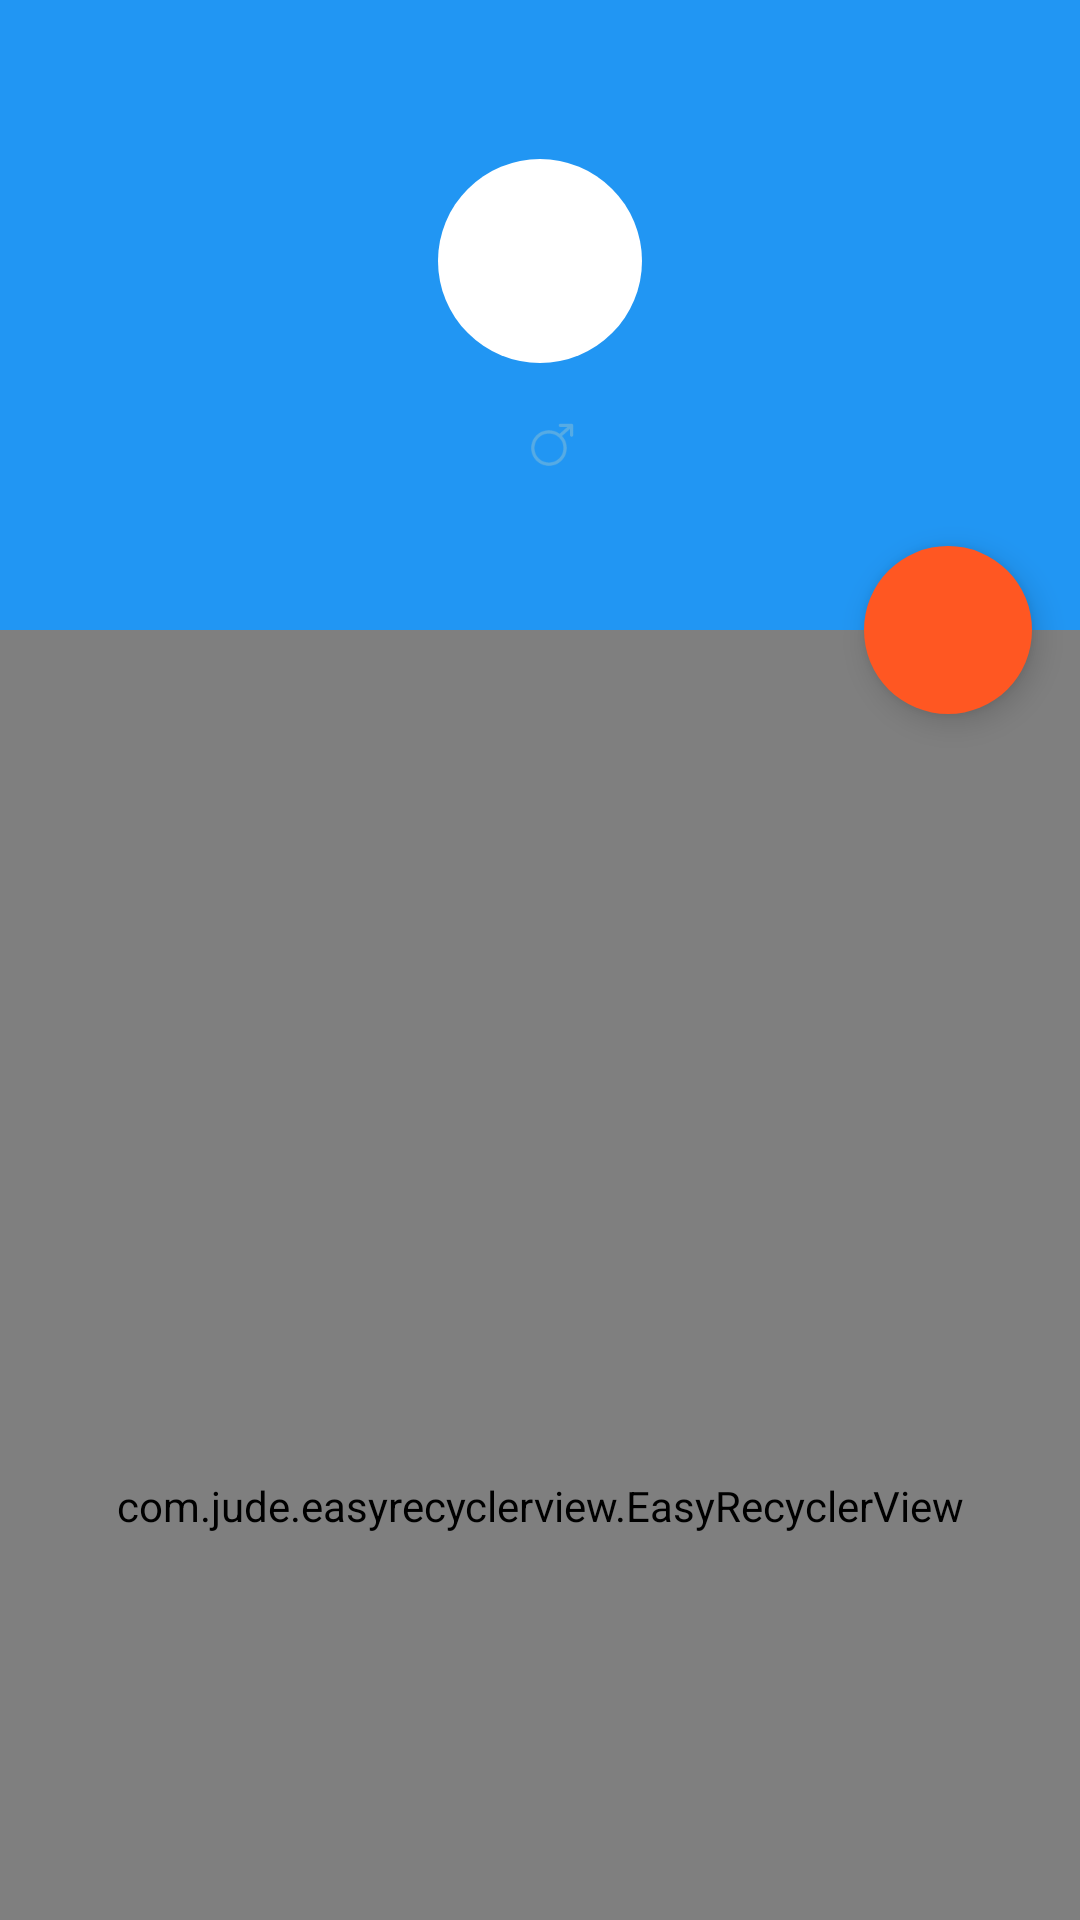

Screen size 1080 × 1920. Icon name, then its center in pixels as [x,y]:
male: [552,445]
